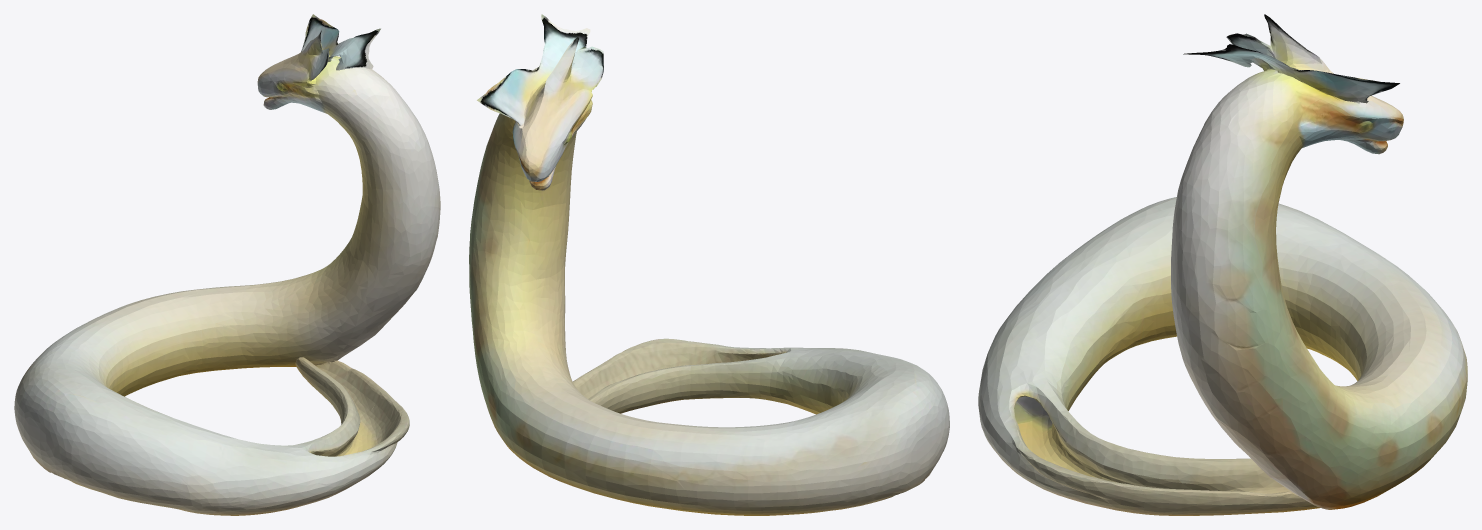
File: glassdune_serpent.glb
3 views of the same model, side by side, from view 1: azimuth 30°, elevation 25°; view 2: azimuth 150°, elevation 25°; view 3: azimuth 270°, elevation 25° (orthographic). The views are drawn at different scales.
Parts seen in each view (by area): view 1: geometry_0; view 2: geometry_0; view 3: geometry_0.
Part boxes in pixels (x1,y1,x2,y2): geometry_0: [14, 14, 440, 515]; geometry_0: [469, 14, 949, 515]; geometry_0: [978, 14, 1467, 515].
Size of the model in its own units: 0.9999 by 0.8911 by 0.7896.
Materials: 1 (1 with a texture image).
